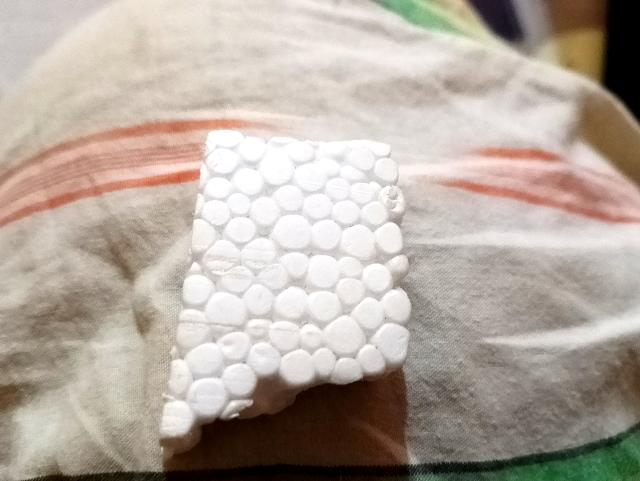cocksheet: (163, 110, 441, 464)
